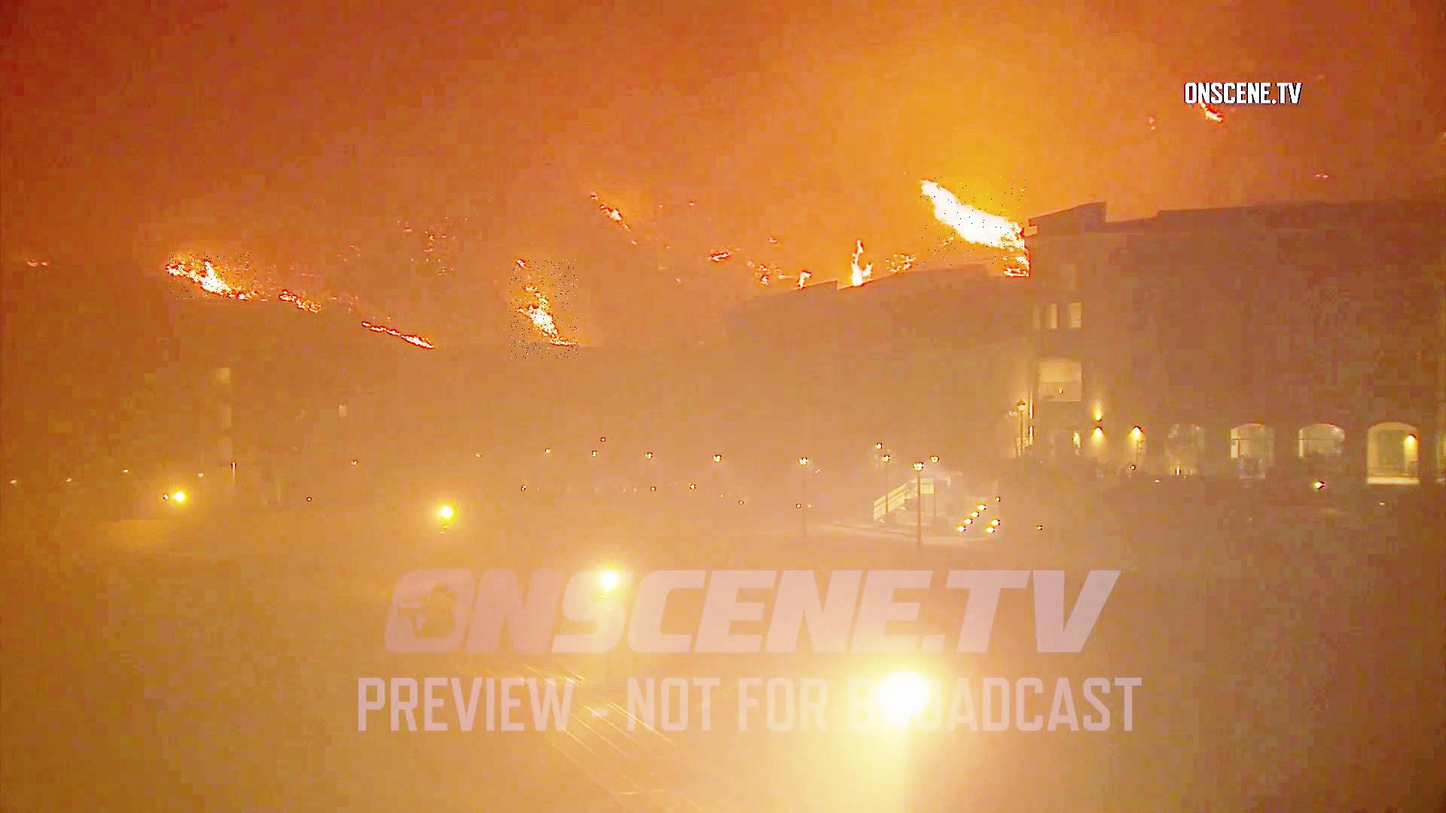fire: (917, 177, 1026, 267), (509, 260, 578, 359), (170, 252, 257, 299)
